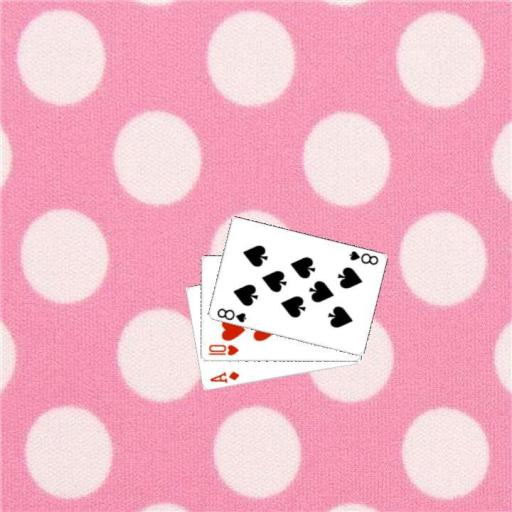10H: (206, 342, 240, 357)
8S: (214, 305, 248, 324), (346, 248, 380, 267)
AD: (207, 368, 240, 385)
